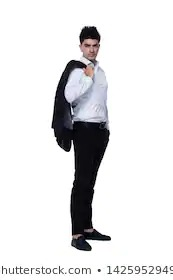F_dress pants: (66, 117, 115, 234)
